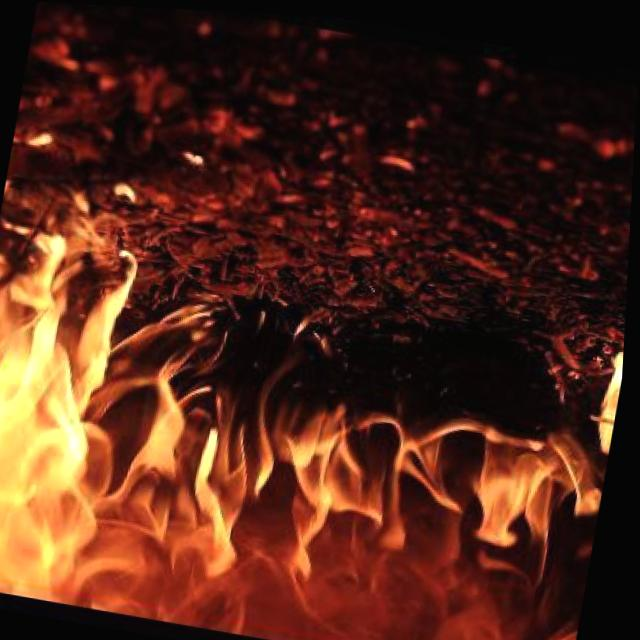helmet: (0, 213, 631, 640)
